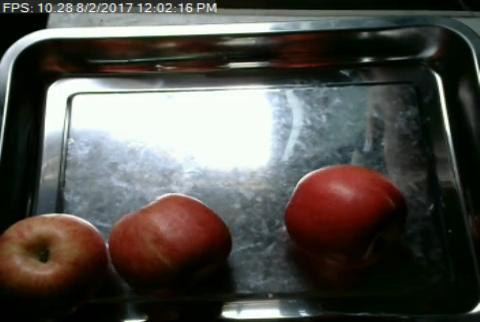apple: (284, 164, 409, 267), (108, 192, 232, 290), (0, 212, 107, 313)
